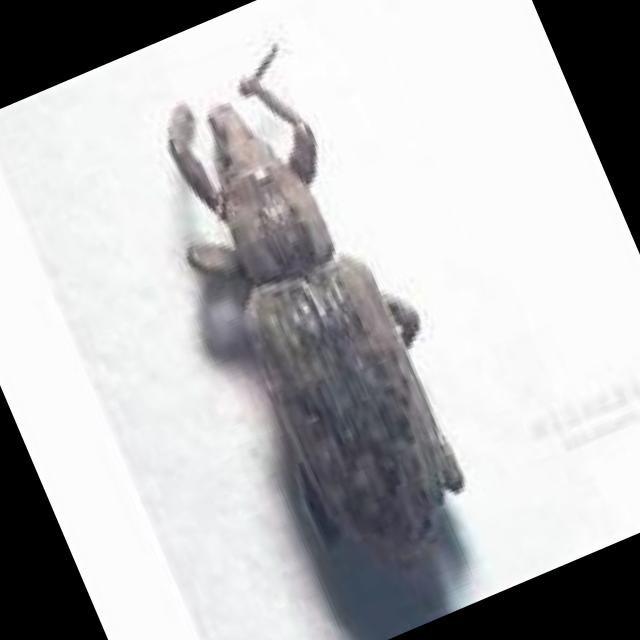rice-bug: (128, 38, 508, 590)
